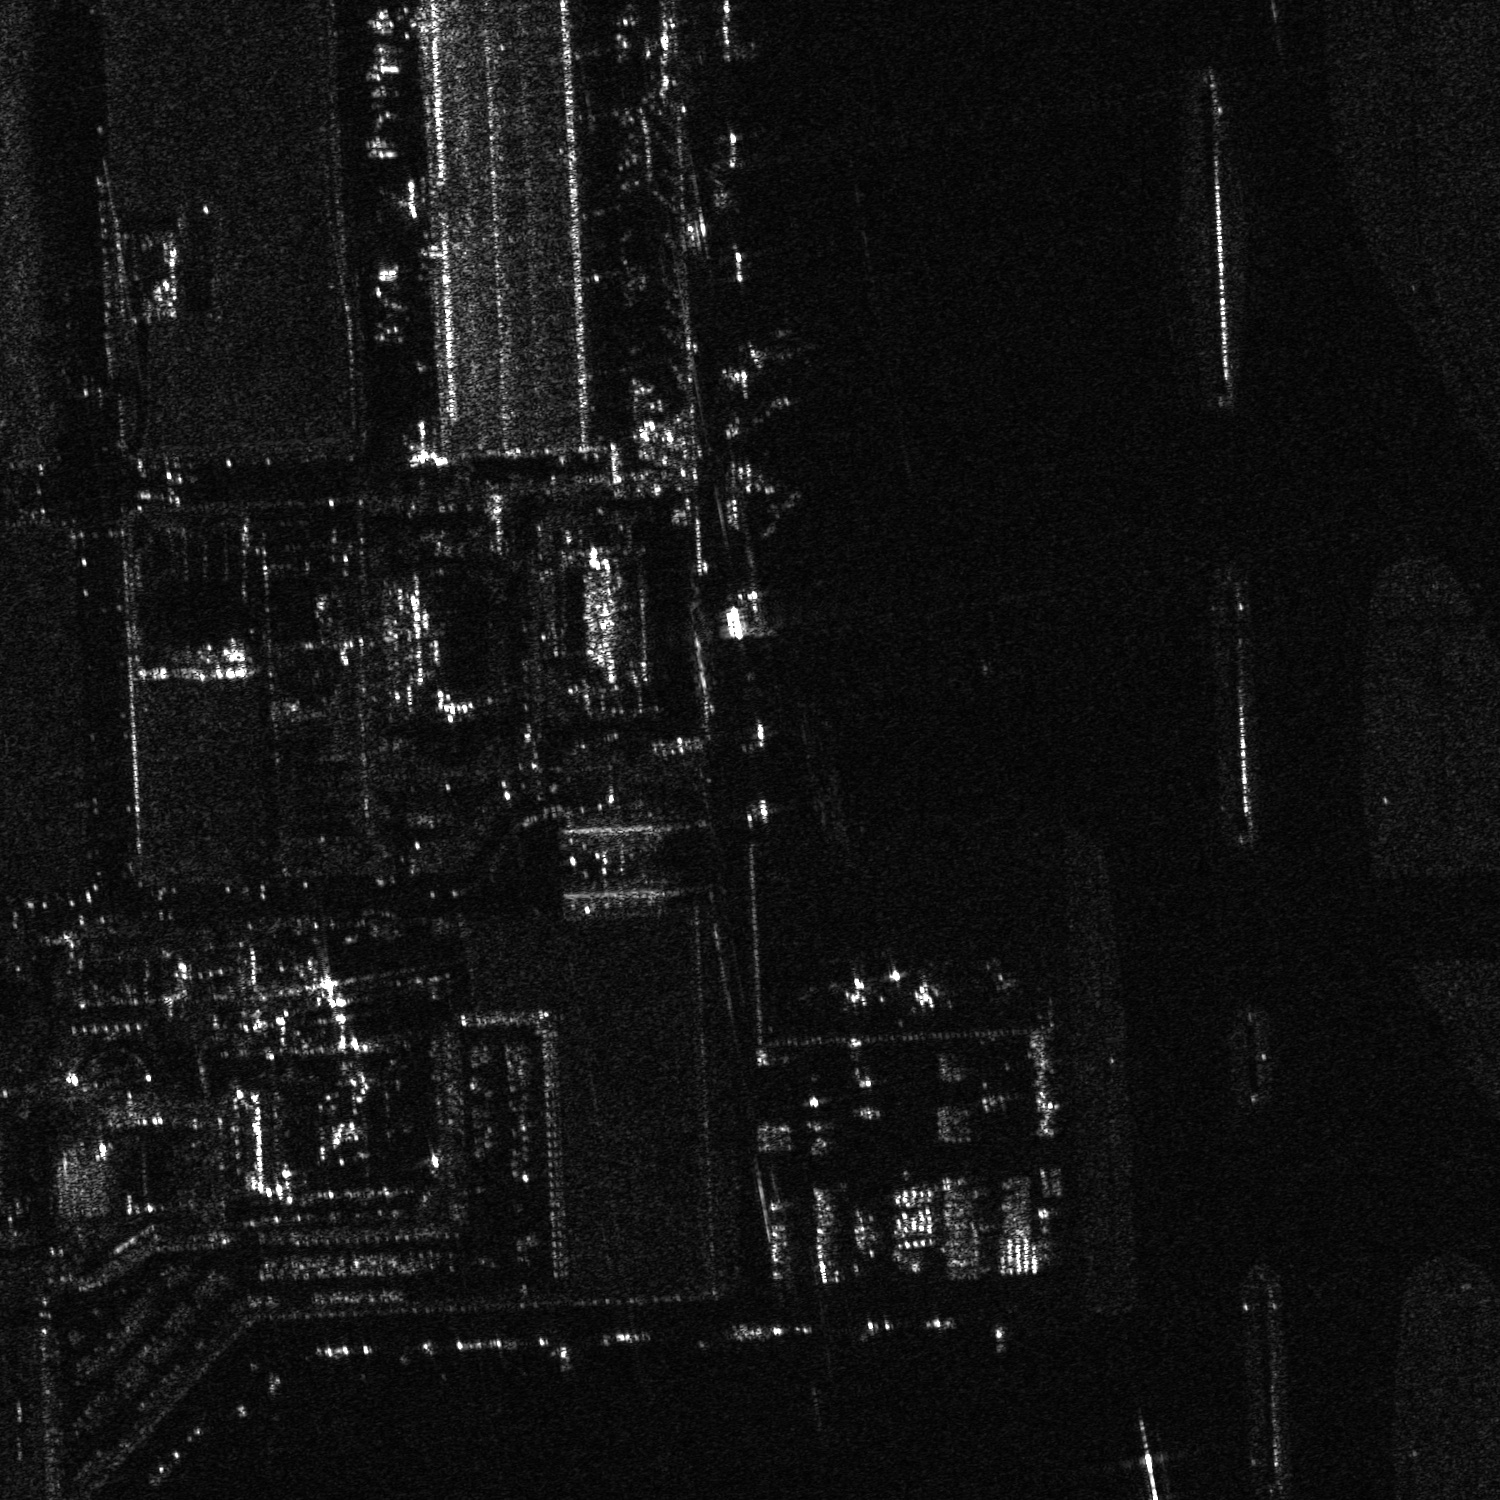ARJ21: (824, 960, 883, 1012)
other: (902, 966, 956, 1016)
